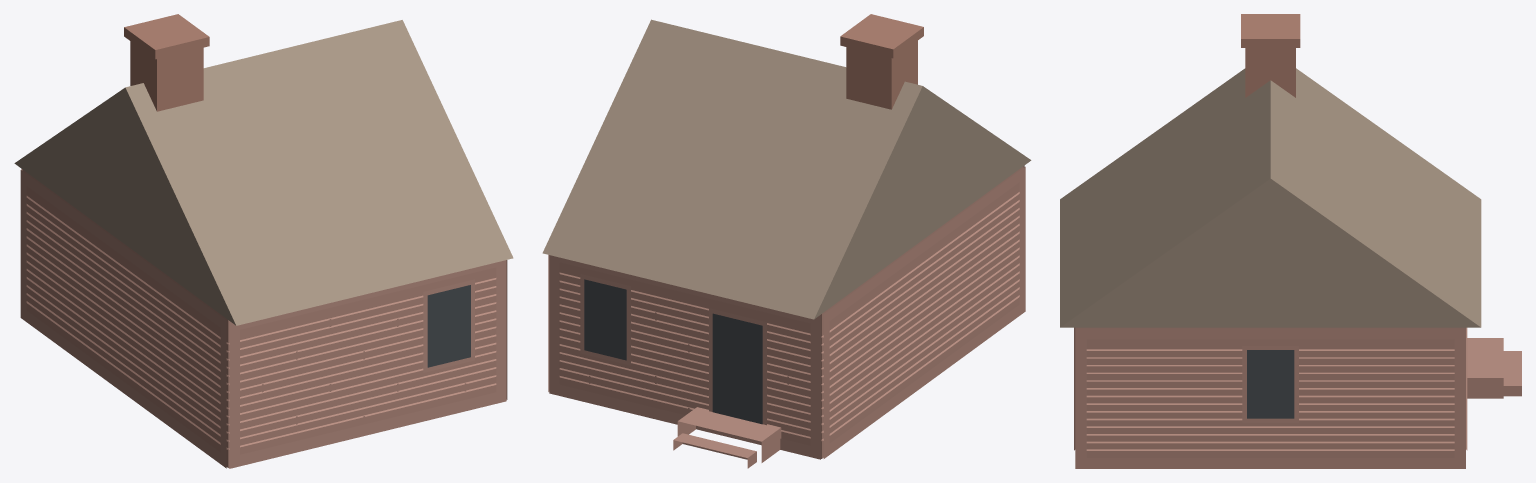
The model's file is recon_1835_blk_randolph_market_d3_04__inferred_1835.glb.
3 views of the same model, side by side, from view 1: azimuth 30°, elevation 25°; view 2: azimuth 150°, elevation 25°; view 3: azimuth 270°, elevation 25° (orthographic). The views are drawn at different scales.
Visible parts, largest first — view 1: recon_1835_blk_randolph_market_d3_04__inferred_1835; view 2: recon_1835_blk_randolph_market_d3_04__inferred_1835; view 3: recon_1835_blk_randolph_market_d3_04__inferred_1835.
Boxes of the visible parts, box(x1,y1,x2,y2) form: recon_1835_blk_randolph_market_d3_04__inferred_1835: box(14, 14, 513, 468); recon_1835_blk_randolph_market_d3_04__inferred_1835: box(542, 14, 1031, 468); recon_1835_blk_randolph_market_d3_04__inferred_1835: box(1060, 14, 1521, 468).
Bounding box in the file's own units: 5.09 × 6.05 × 7.62.
